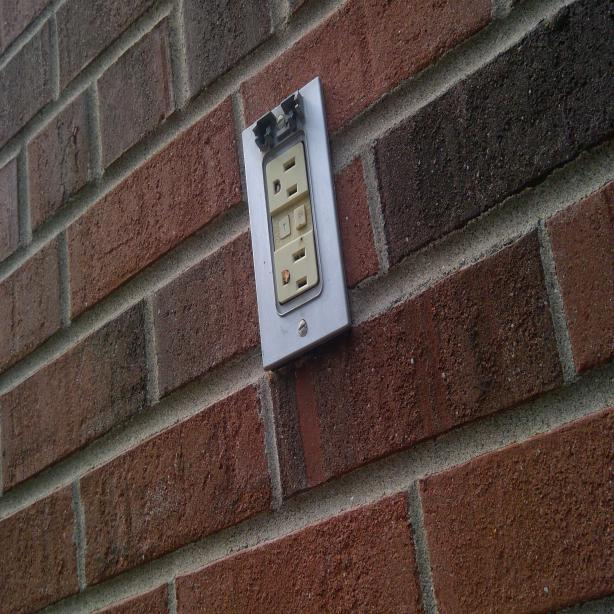typeb: (266, 154, 305, 202), (276, 244, 313, 293)
